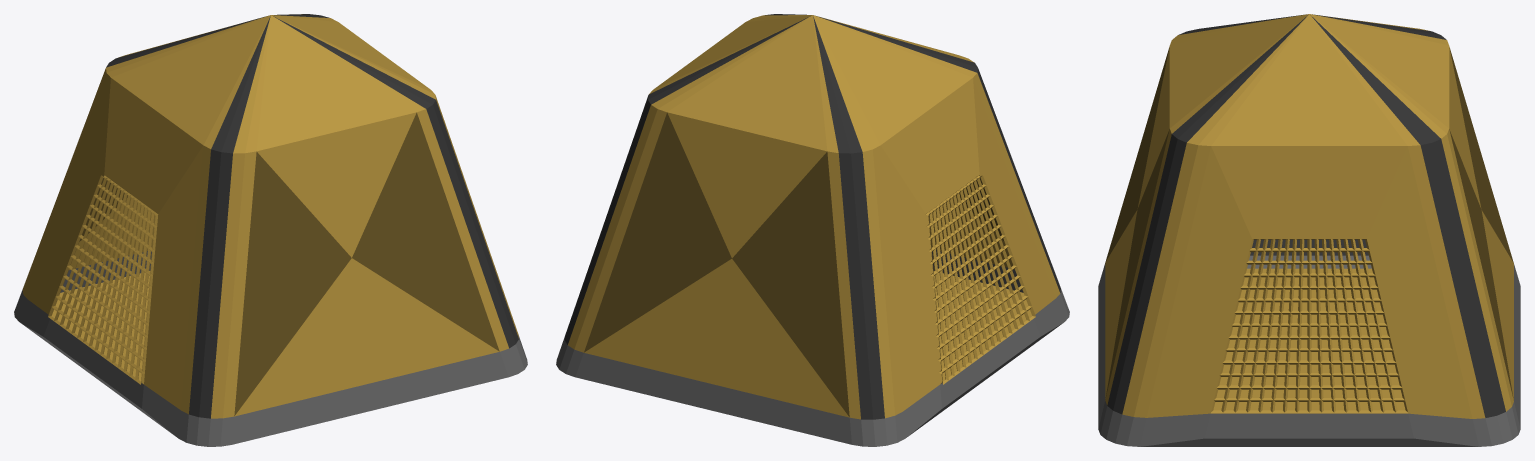
The model's file is Tent.fbx.
The picture shows the model from 3 angles, left to right: view 1: azimuth 30°, elevation 25°; view 2: azimuth 150°, elevation 25°; view 3: azimuth 270°, elevation 25°; orthographic projection. The views are drawn at different scales.
Visible parts, largest first — view 1: 平面.006; view 2: 平面.006; view 3: 平面.006.
Part boxes in pixels (x1,y1,x2,y2): 平面.006: [14, 14, 527, 446]; 平面.006: [556, 14, 1069, 446]; 平面.006: [1098, 14, 1520, 446].
Bounding box in the file's own units: 810 × 710 × 790.
